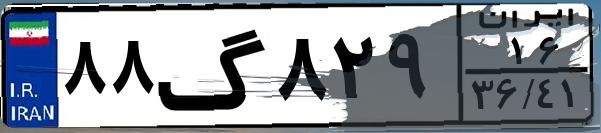1: (560, 70, 590, 125), (508, 27, 537, 80)
2: (330, 28, 385, 110)
3: (470, 70, 495, 125)
4: (535, 70, 560, 125)
6: (537, 27, 568, 80), (495, 70, 520, 125)
8: (270, 28, 330, 110), (57, 26, 110, 100), (110, 28, 156, 98)
9: (385, 28, 445, 110)
گ: (156, 12, 270, 120)
